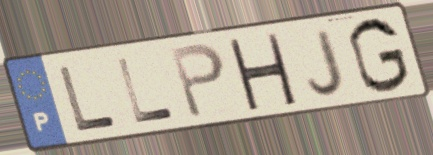G: (345, 15, 413, 95)
H: (223, 32, 299, 111)
J: (305, 26, 347, 98)
L: (114, 55, 179, 126), (55, 64, 120, 134)
P: (166, 40, 229, 122)
